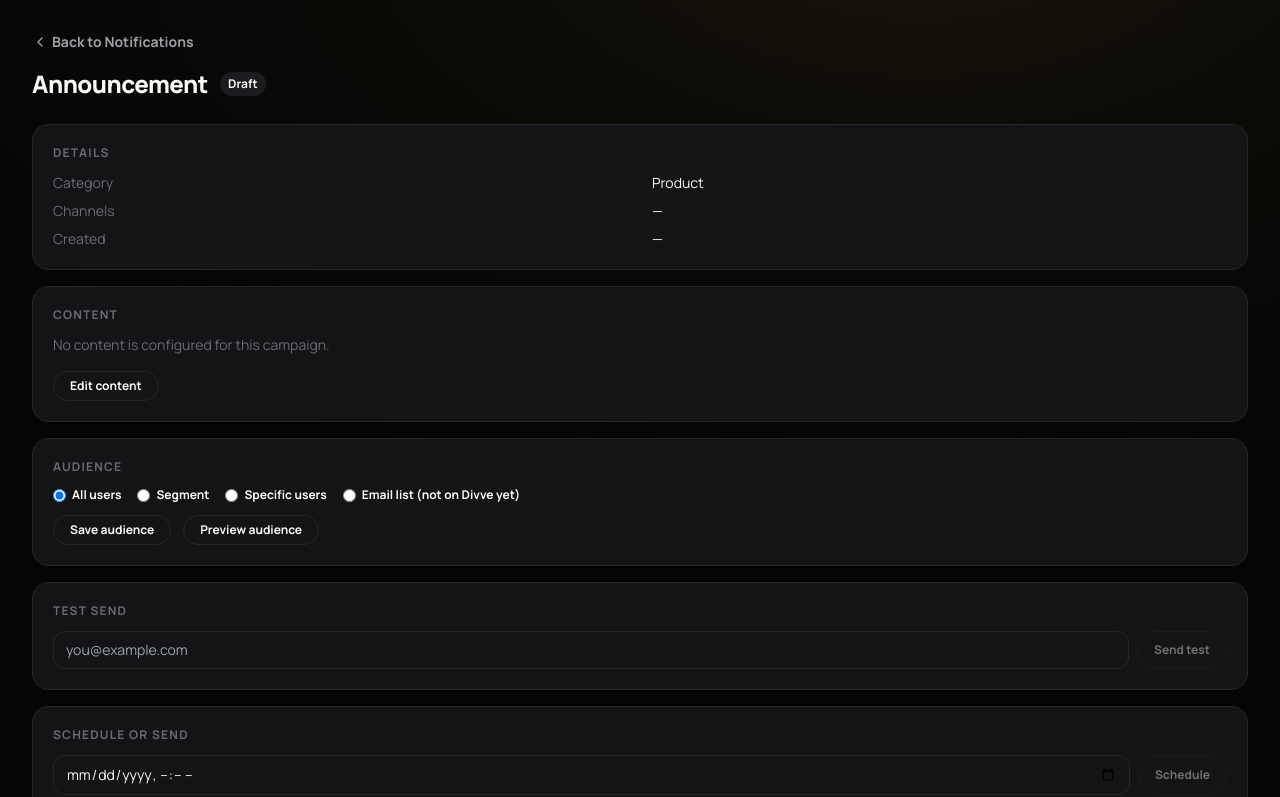
Test: NotificationCampaignDetail › loads a draft campaign and switches audience mode
Expected: the heading "Announcement" is shown, 32,68 -> 208,100
Click the radio button with test id "admin-campaign-audience-segment" at (144, 495), box 138,488 -> 150,502
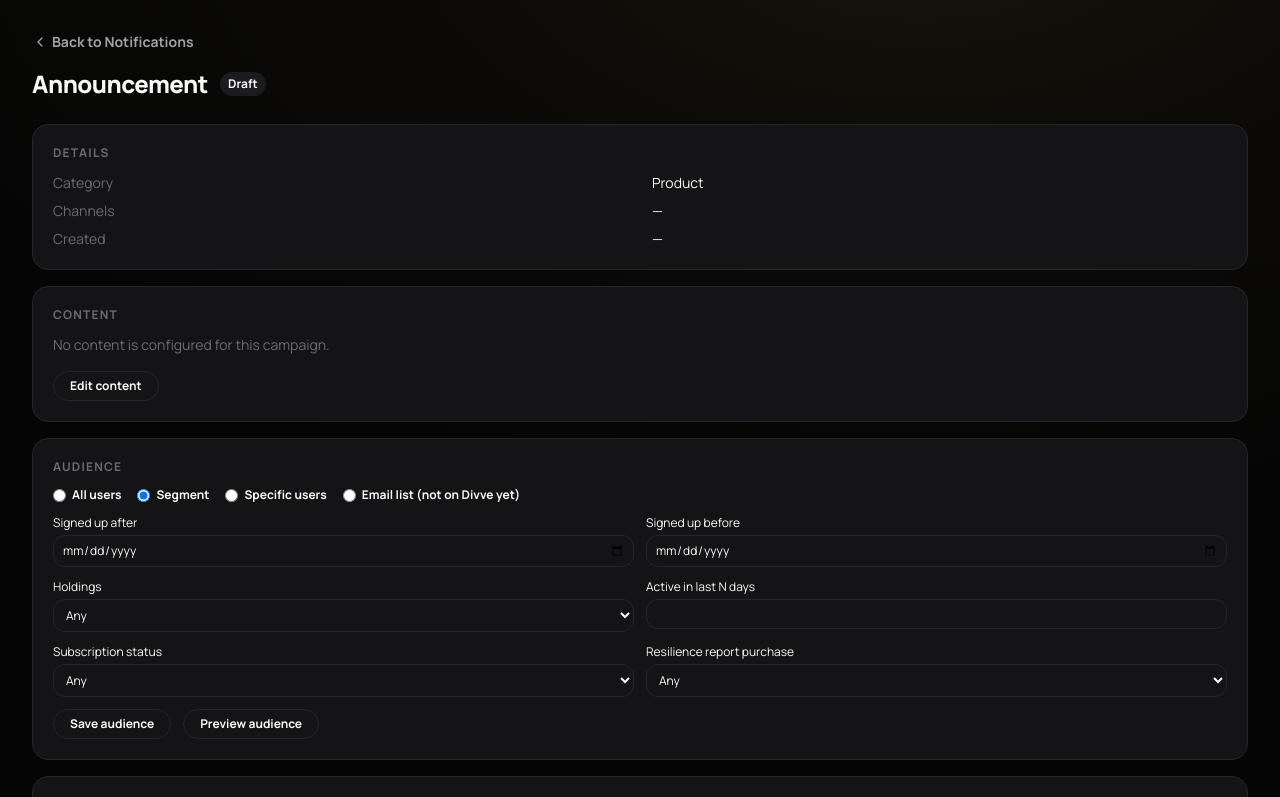
Now the dropdown with test id "admin-campaign-segment-hasholdings" is shown, box 53,599 -> 634,632
